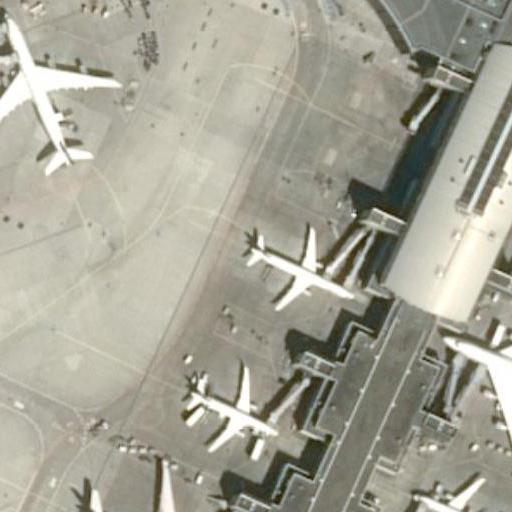Aircraft: (0, 9, 114, 194), (428, 297, 512, 462), (165, 360, 295, 461), (240, 213, 370, 314), (57, 459, 227, 512), (409, 472, 512, 512)
